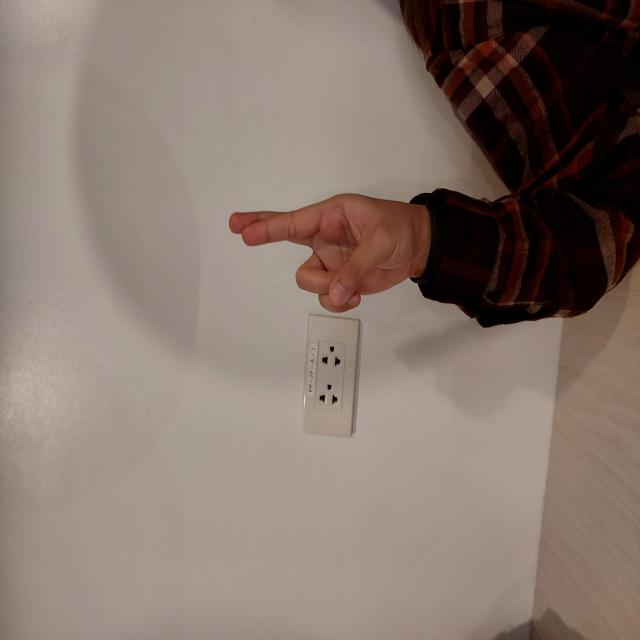R: (323, 226, 449, 422)
